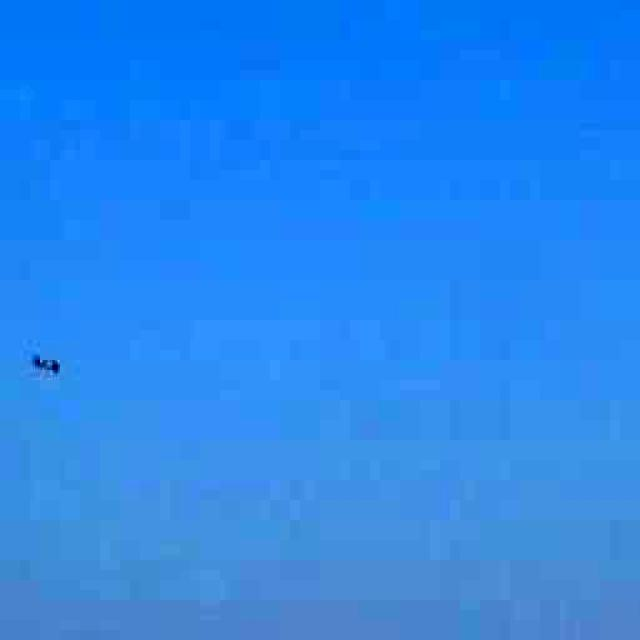bird: (14, 335, 74, 385)
